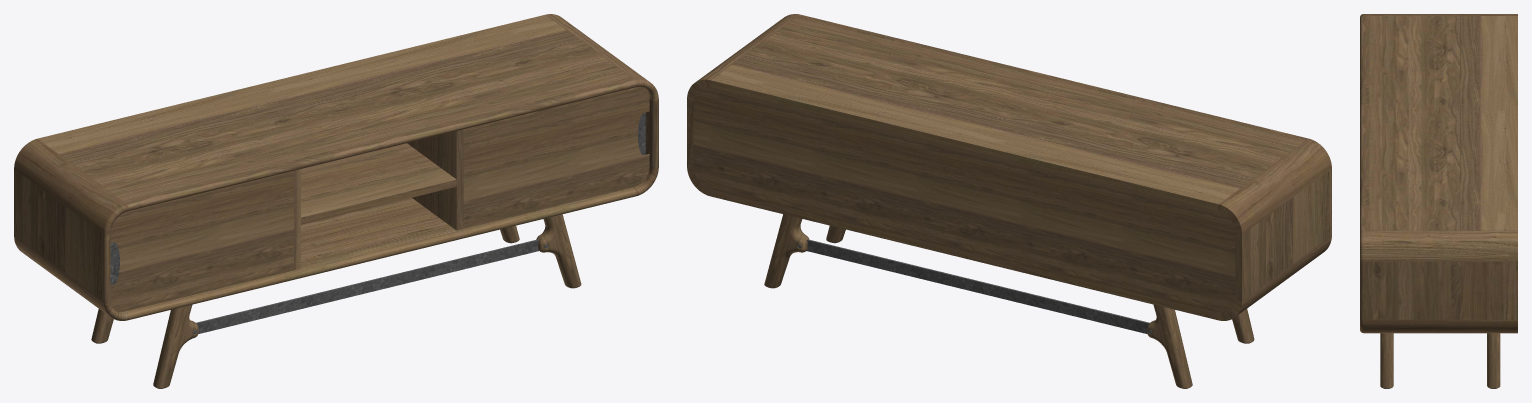
Rendered from oak_tv_stand.glb.
3 renders of one model, left to right at view 1: azimuth 30°, elevation 25°; view 2: azimuth 150°, elevation 25°; view 3: azimuth 270°, elevation 25°, orthographic. The views are drawn at different scales.
Visible parts, largest first — view 1: Cylinder.003; view 2: Cylinder.003; view 3: Cylinder.003.
Part boxes in pixels (bbox=[...]): Cylinder.003: bbox=[14, 14, 658, 388]; Cylinder.003: bbox=[687, 14, 1331, 388]; Cylinder.003: bbox=[1360, 14, 1517, 388].
Bounding box in the file's own units: 1.65 × 0.58 × 0.47.
2 materials, 2 textured.
